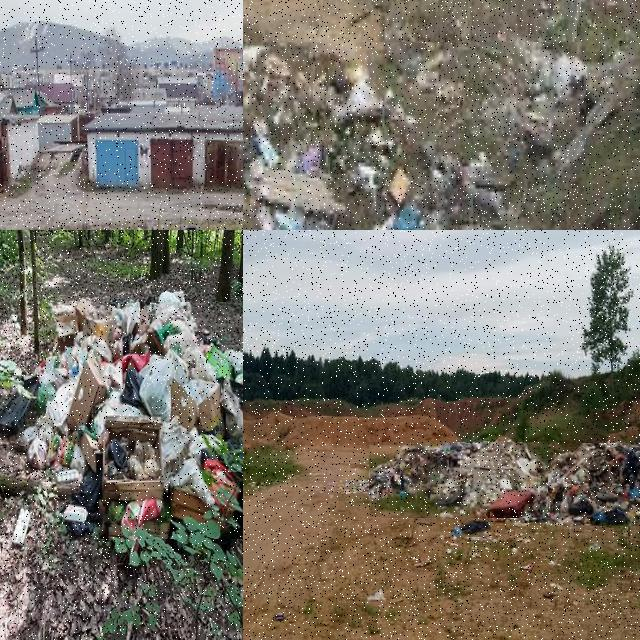lixeira: (243, 42, 588, 229), (46, 302, 242, 541), (370, 442, 550, 519), (550, 443, 639, 528), (0, 377, 41, 470), (456, 520, 490, 538)
